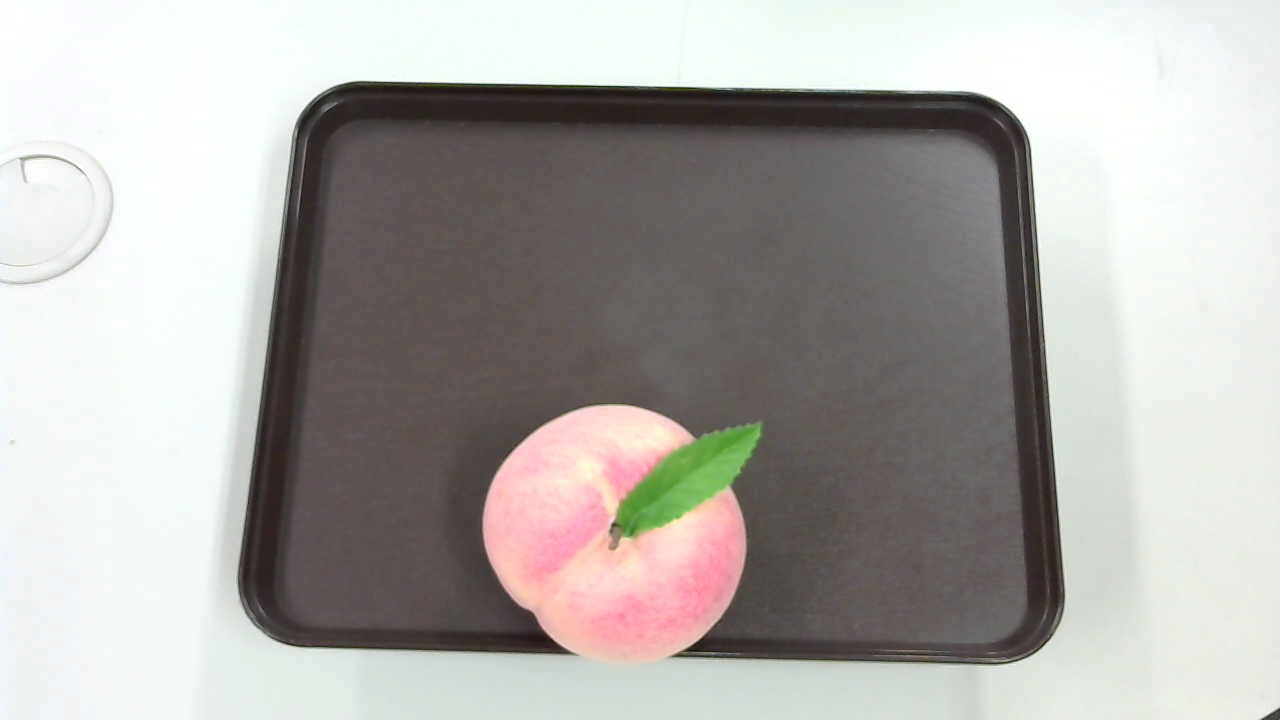peach: (476, 395, 766, 668)
